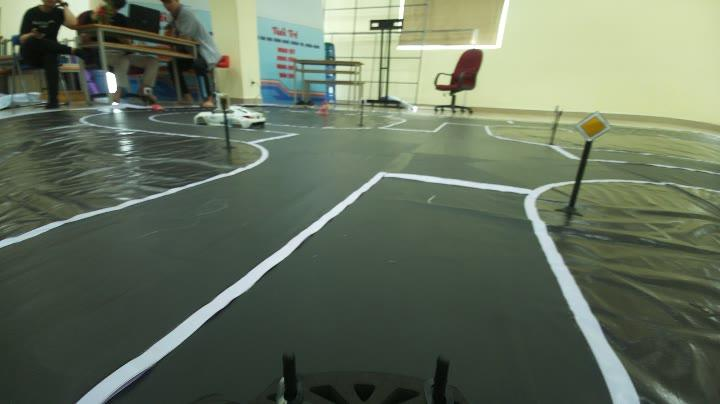priority: (573, 106, 612, 150)
